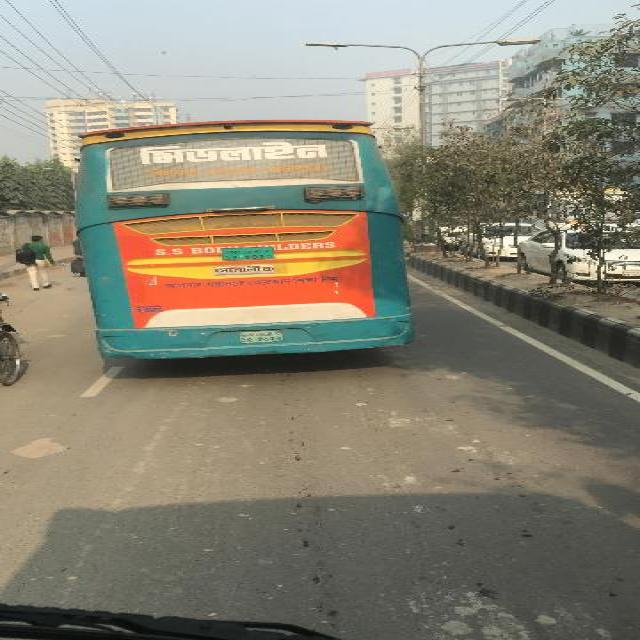5: (517, 228, 639, 282), (457, 222, 542, 258)
Truck: (72, 120, 419, 358)
